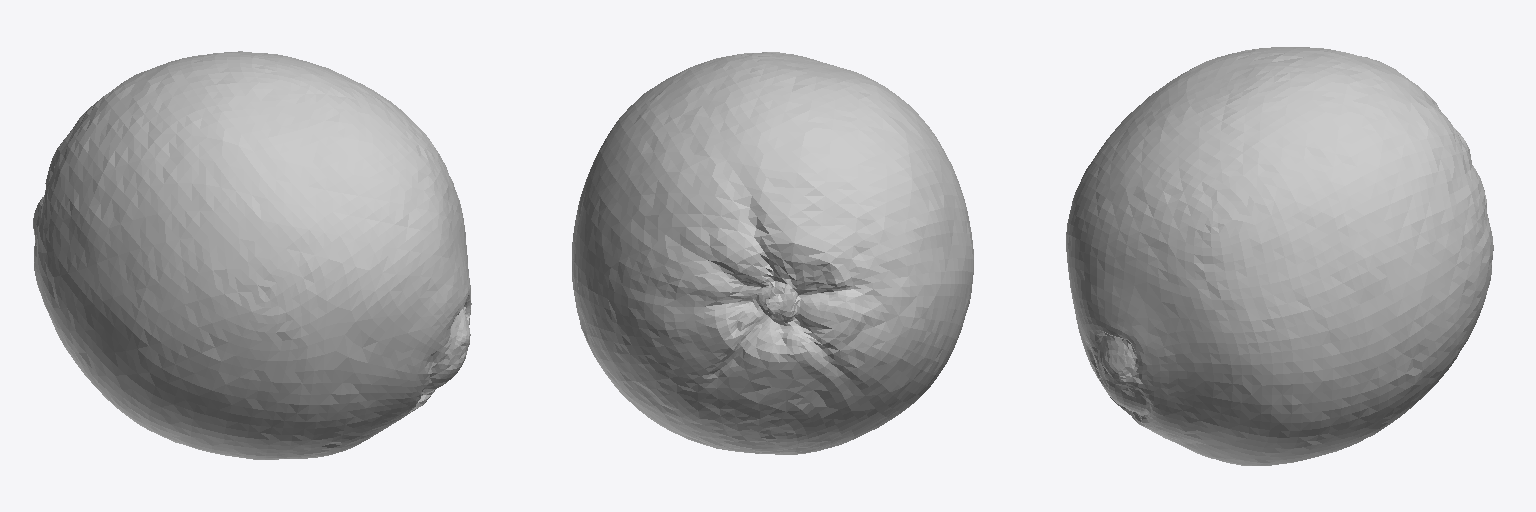
Rendered from orange.obj.
The picture shows the model from 3 angles: view 1: azimuth 30°, elevation 25°; view 2: azimuth 150°, elevation 25°; view 3: azimuth 270°, elevation 25°; orthographic projection.
Visible parts, largest first — view 1: Orange.001; view 2: Orange.001; view 3: Orange.001.
Boxes of the visible parts, box(x1,y1,x2,y2) form: Orange.001: box(33, 51, 471, 459); Orange.001: box(572, 52, 973, 454); Orange.001: box(1066, 47, 1493, 465).
Size of the model in its own units: 0.34 by 0.33 by 0.3468.